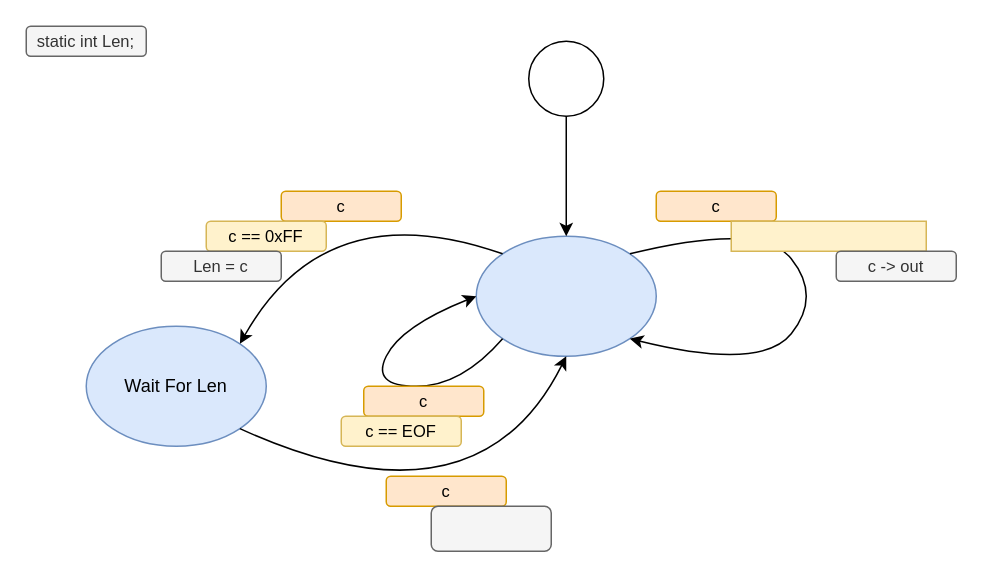
The diagram is 983 pixels wide and 578 high, and some of its shapes have lost their labels. The shapes that lost their labels are listed below. From the top down, each one's centre as x and y in pixels, then its label:
At [828,235]: "c != 0xFF && c != EOF".
At [565,295]: "wait for character".
At [490,528]: "c -> out Len times".
